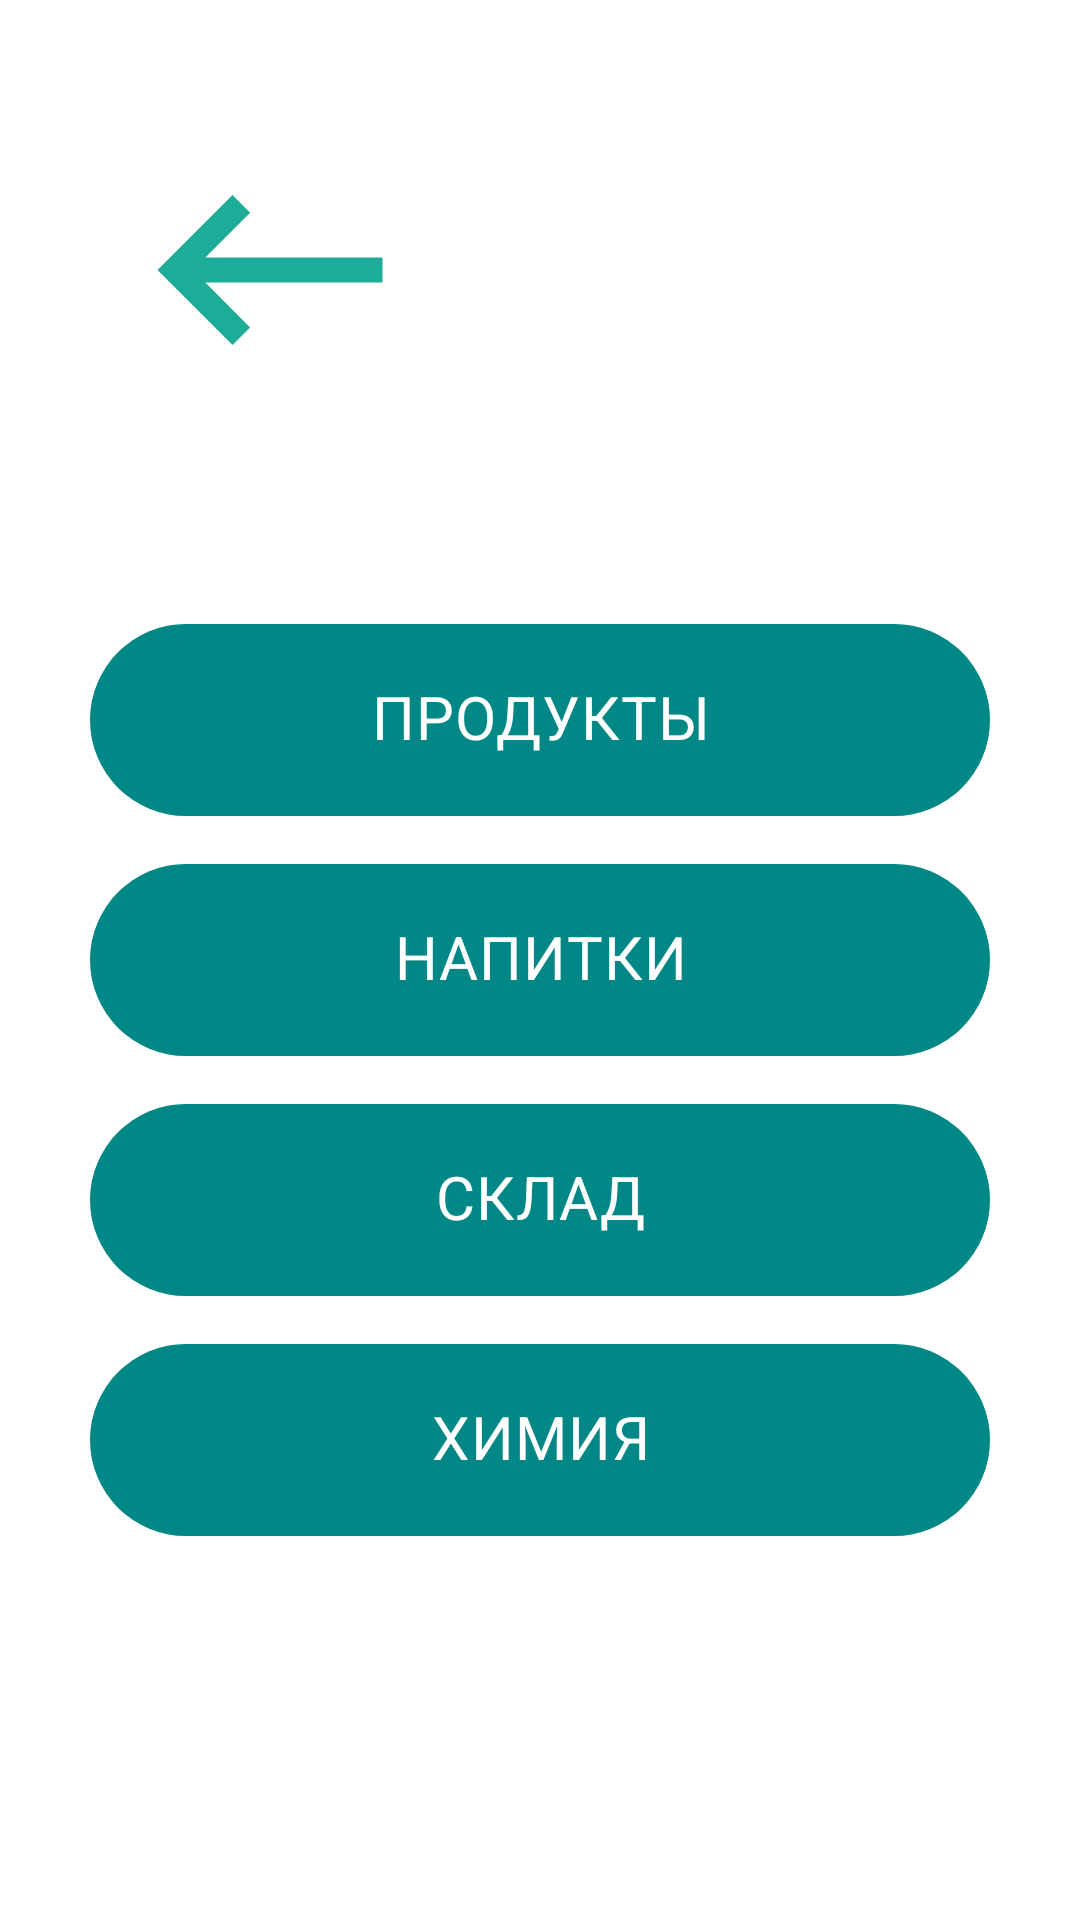

Locate icon controls on the screen. Image size 1080*1920, boxes as (x1, y1, x2, y2).
keyboard backspace: (157, 195, 383, 345)
